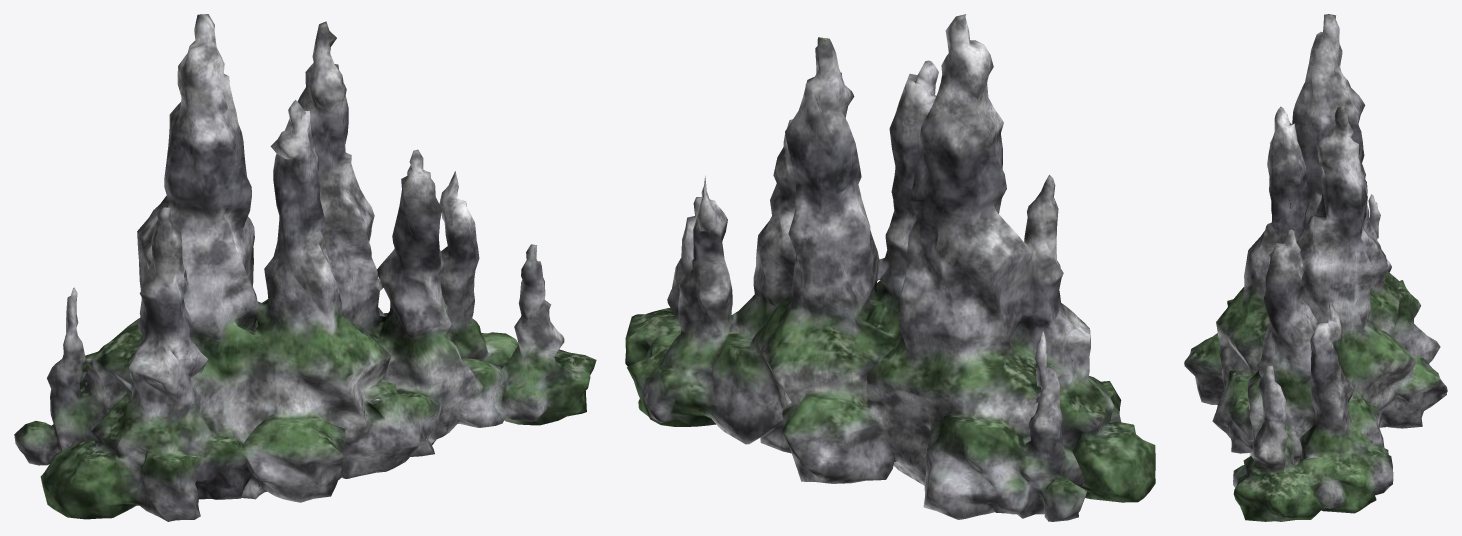
File: veilscar-peaks.glb
3 renders of one model, left to right at view 1: azimuth 30°, elevation 25°; view 2: azimuth 150°, elevation 25°; view 3: azimuth 270°, elevation 25°, orthographic. The views are drawn at different scales.
Visible parts, largest first — view 1: veilscar-peaks; view 2: veilscar-peaks; view 3: veilscar-peaks.
Part boxes in pixels (x1,y1,x2,y2): veilscar-peaks: (14, 14, 596, 521); veilscar-peaks: (625, 14, 1155, 521); veilscar-peaks: (1184, 14, 1447, 521).
Bounding box in the file's own units: 101 × 82.83 × 52.11.
Materials: 1 (1 with a texture image).
